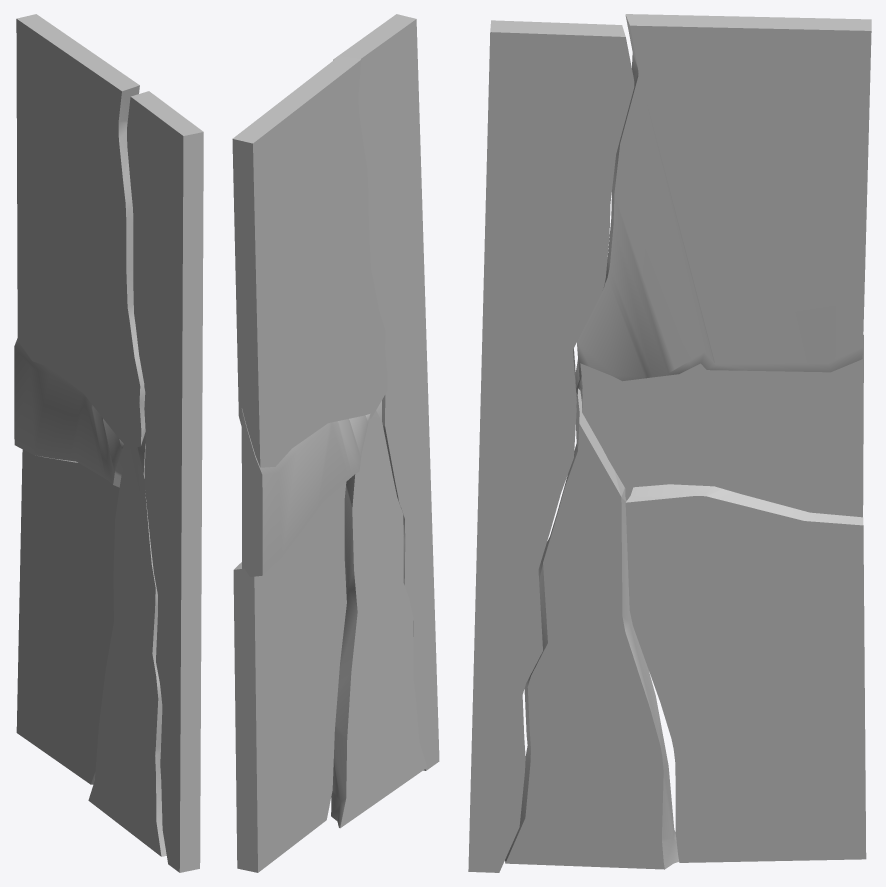
Rendered from Broken glass.fbx.
The picture shows the model from 3 angles, left to right: view 1: azimuth 30°, elevation 25°; view 2: azimuth 150°, elevation 25°; view 3: azimuth 270°, elevation 25°; orthographic projection. The views are drawn at different scales.
Visible parts, largest first — view 1: pasted__shard2, pasted__shard3, pasted__shard5, pasted__shard4, pasted__shard1; view 2: pasted__shard3, pasted__shard5, pasted__shard2, pasted__shard4, pasted__shard1; view 3: pasted__shard3, pasted__shard5, pasted__shard2, pasted__shard4, pasted__shard1.
Boxes of the visible parts, x1,y1,x2,y2 form: pasted__shard2: [127, 91, 203, 872]; pasted__shard3: [16, 14, 145, 450]; pasted__shard5: [16, 449, 119, 784]; pasted__shard4: [88, 432, 166, 856]; pasted__shard1: [14, 338, 130, 487]; pasted__shard3: [232, 56, 387, 467]; pasted__shard5: [233, 482, 346, 872]; pasted__shard2: [333, 14, 439, 770]; pasted__shard4: [331, 400, 427, 828]; pasted__shard1: [241, 408, 370, 576]; pasted__shard3: [575, 14, 871, 392]; pasted__shard5: [625, 484, 866, 862]; pasted__shard2: [468, 20, 634, 872]; pasted__shard4: [505, 388, 679, 869]; pasted__shard1: [579, 335, 863, 517].
Bounding box in the file's own units: 0.1447 × 2.51 × 1.08.
1 material, 1 textured.
